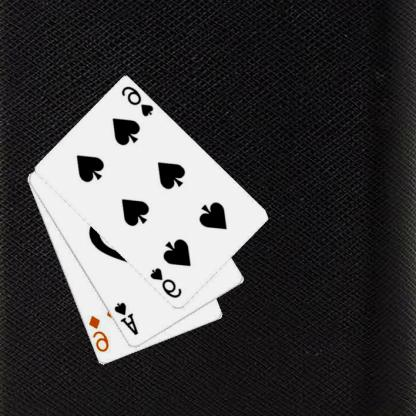6S: (149, 266, 185, 300), (120, 84, 156, 118)
9D: (88, 313, 112, 354)
AS: (113, 300, 141, 337)
